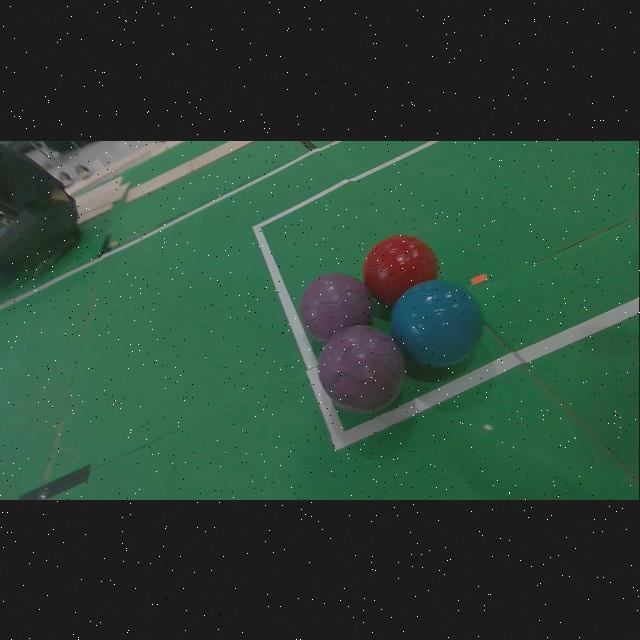B: (392, 280, 483, 366)
P: (319, 325, 406, 412), (301, 273, 374, 341)
R: (364, 234, 439, 305)
